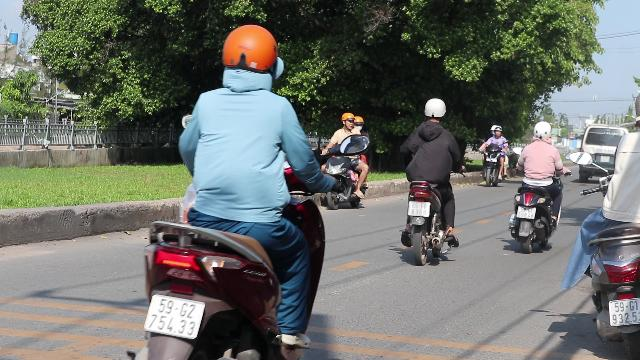helmet: (218, 24, 282, 90), (422, 98, 446, 122), (532, 120, 552, 142), (340, 112, 356, 130), (354, 114, 364, 131)
licenseplate: (144, 294, 202, 338), (608, 298, 640, 326), (408, 202, 430, 217), (516, 206, 536, 220)
motorcyclist: (128, 25, 334, 357), (396, 97, 464, 265), (505, 121, 565, 253), (322, 111, 371, 209)
